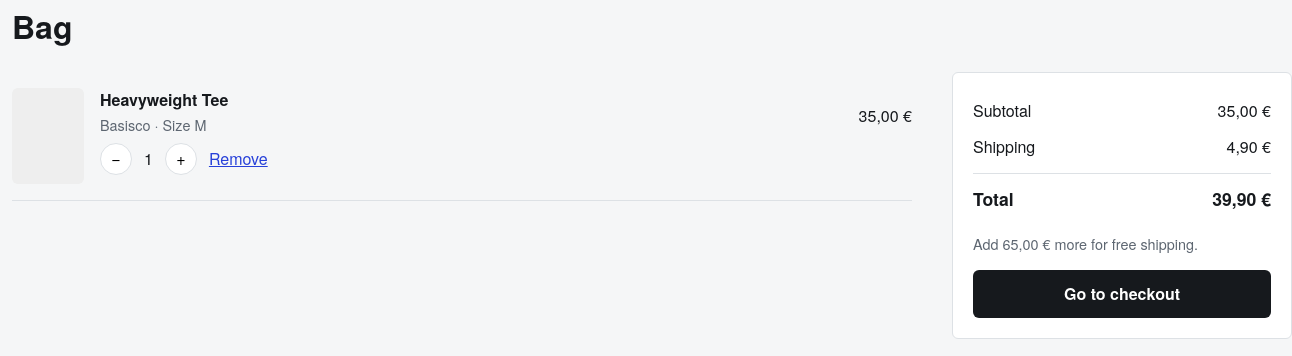
Scenario: CartPage › changes quantity, unlocks free shipping and removes lines
The image size is (1292, 356).
expect the text "Add 65,00 € more for free shipping." is shown: met, box x1=973 y1=233 x2=1198 y2=254
What coordinates should you click on to do the following:
click the button named "Increase quantity of Heavyweight Tee"
I would click on:
 (181, 160)
Its box is x1=165 y1=144 x2=197 y2=176.
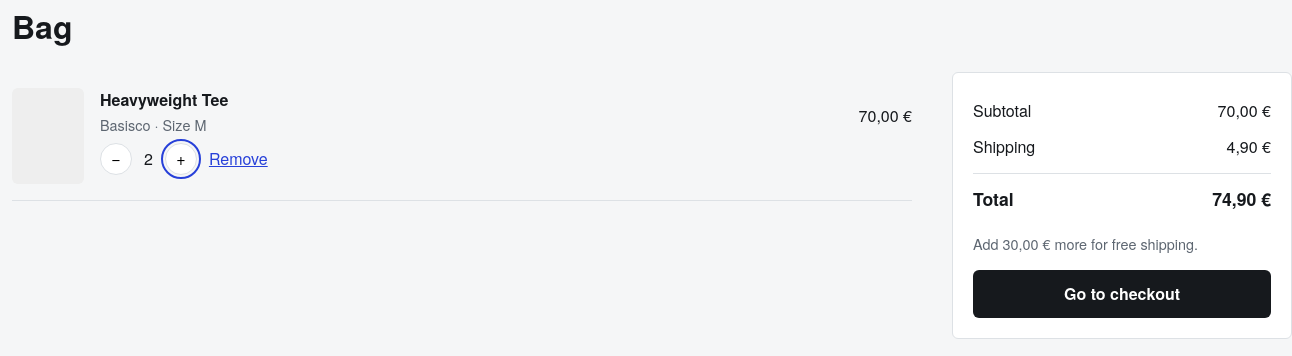
What coordinates should you click on to do the following:
click the button named "Increase quantity of Heavyweight Tee"
I would click on:
 (181, 160)
Its box is x1=165 y1=144 x2=197 y2=176.
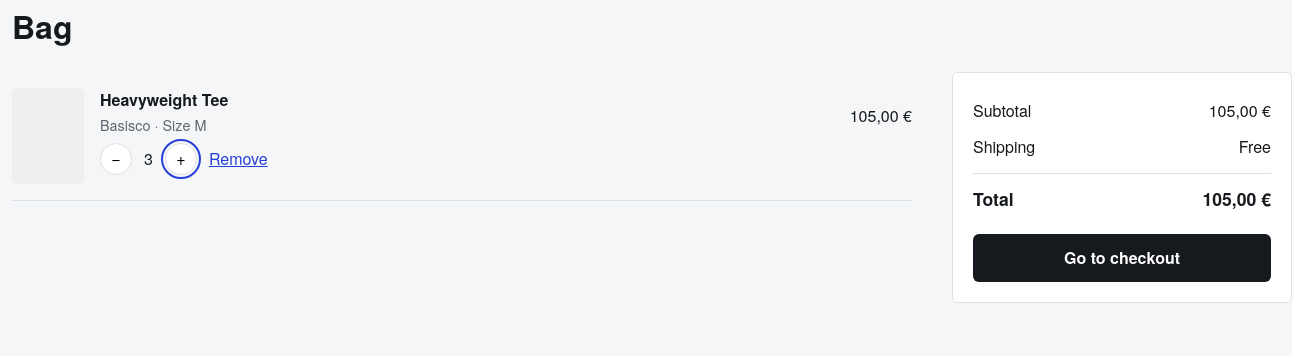
expect the text with test id "qty-9-M" reads "3": met, box x1=144 y1=148 x2=153 y2=170
expect the text "Free" is shown: met, box x1=1239 y1=135 x2=1271 y2=159
What coordinates should you click on to do the following:
click the button "Remove"
I would click on:
 (238, 160)
Its box is x1=209 y1=148 x2=268 y2=172.
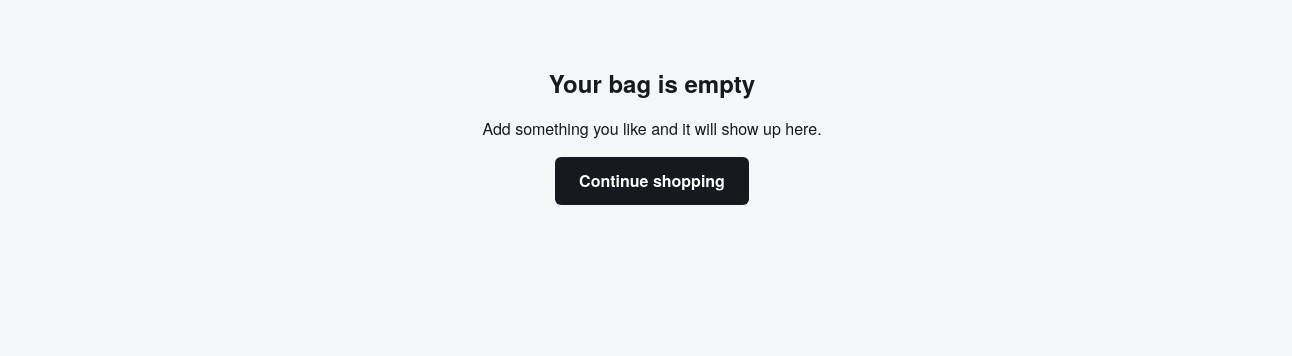
expect the heading "Your bag is empty" is shown: met, box x1=549 y1=66 x2=755 y2=100
